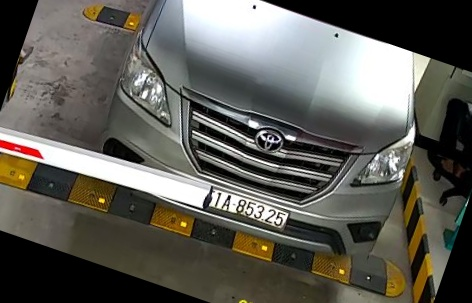plate: (197, 162, 298, 242)
